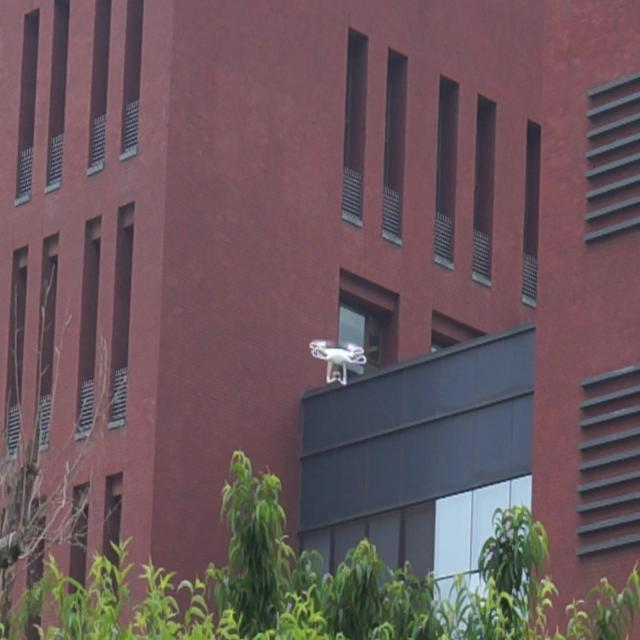UAV: (308, 339, 368, 386)
